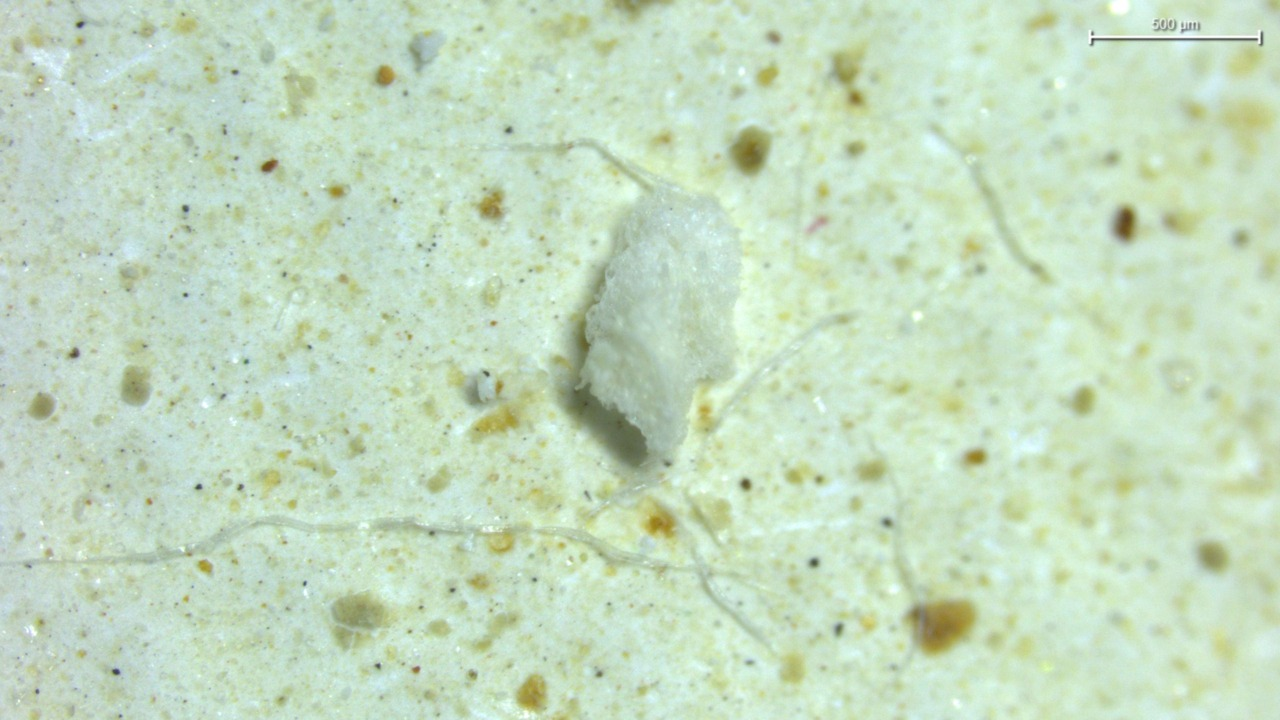microplastic_fragment: (567, 141, 741, 459)
